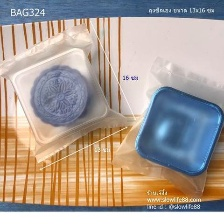snack: (0, 13, 141, 174), (105, 51, 224, 204)
